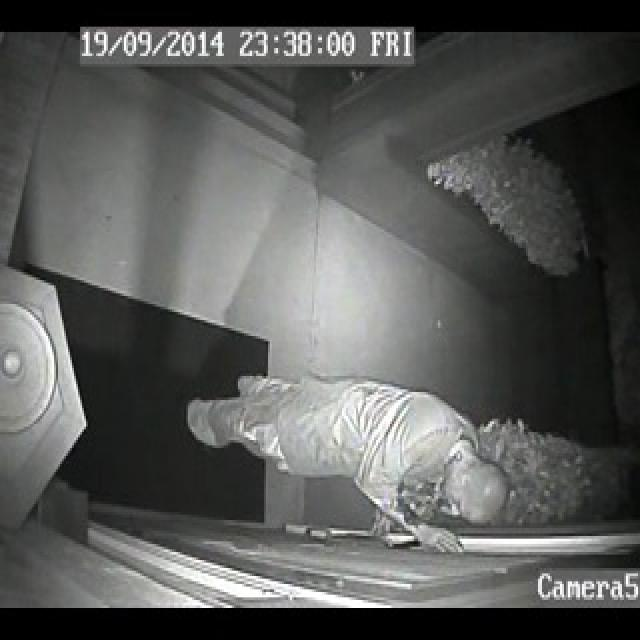burglary: (242, 377, 492, 578)
